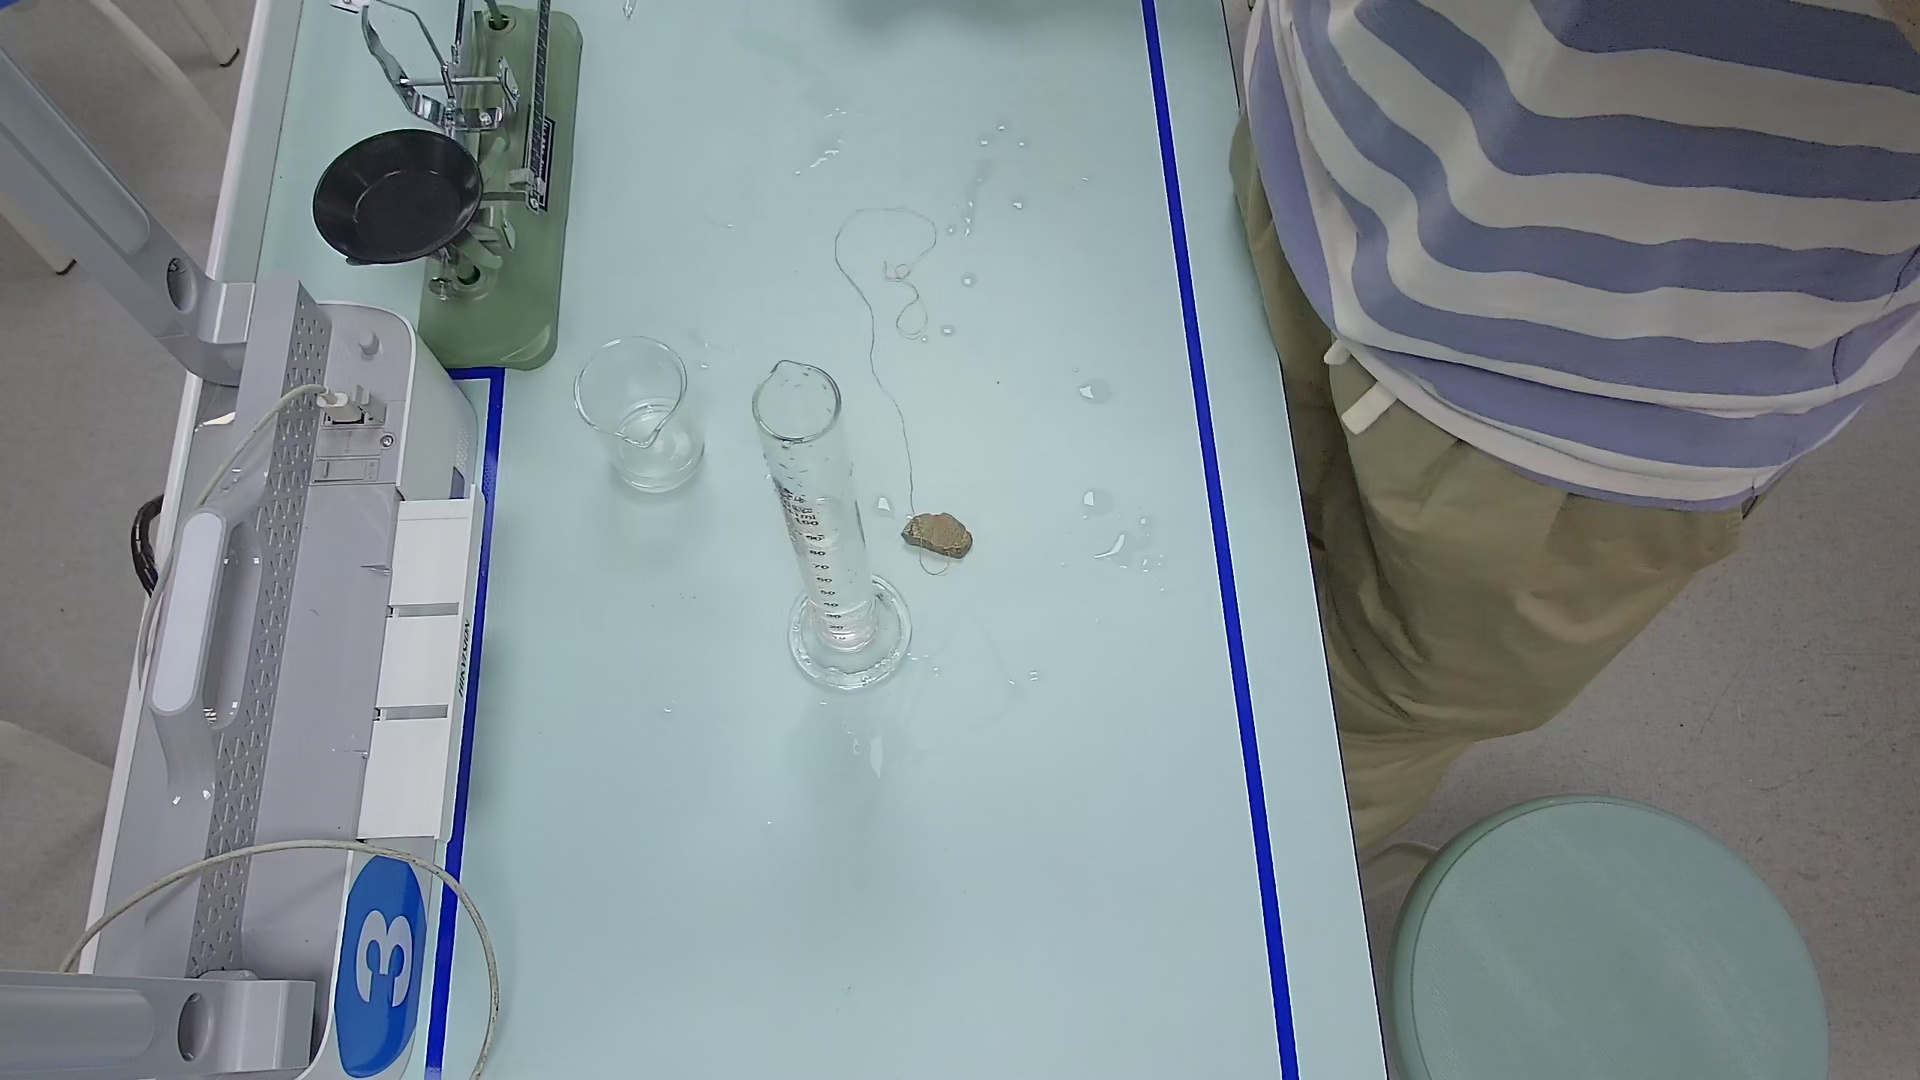ao: (790, 498, 858, 545)
bei: (576, 340, 700, 498)
liangdi: (790, 591, 919, 692)
liangtong: (753, 363, 928, 684)
shi: (901, 506, 965, 563)
tuo: (307, 112, 489, 276)
